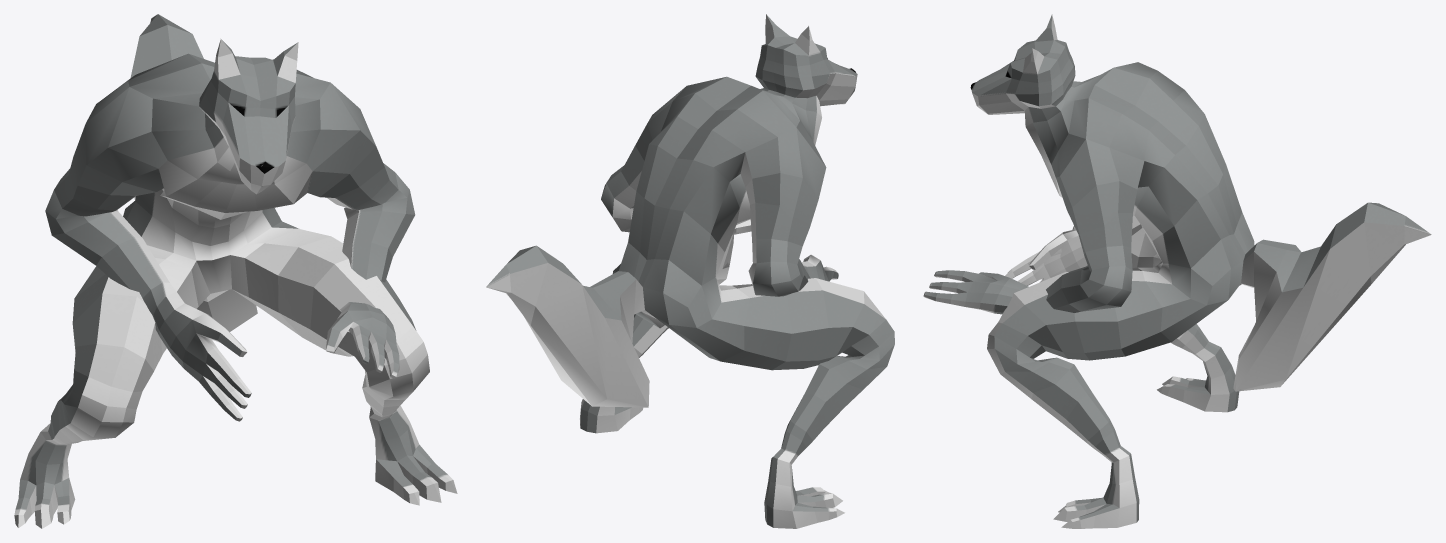
File: WolfAttack(71).obj
3 renders of one model, left to right at view 1: azimuth 30°, elevation 25°; view 2: azimuth 150°, elevation 25°; view 3: azimuth 270°, elevation 25°, orthographic. The views are drawn at different scales.
Parts seen in each view (by area): view 1: Box001; view 2: Box001; view 3: Box001.
Part boxes in pixels (left/top/right/bottom): Box001: left=14, top=14, right=457, bottom=528; Box001: left=486, top=14, right=894, bottom=528; Box001: left=923, top=14, right=1431, bottom=528.
Size of the model in its own units: 78.96 by 106 by 116.
